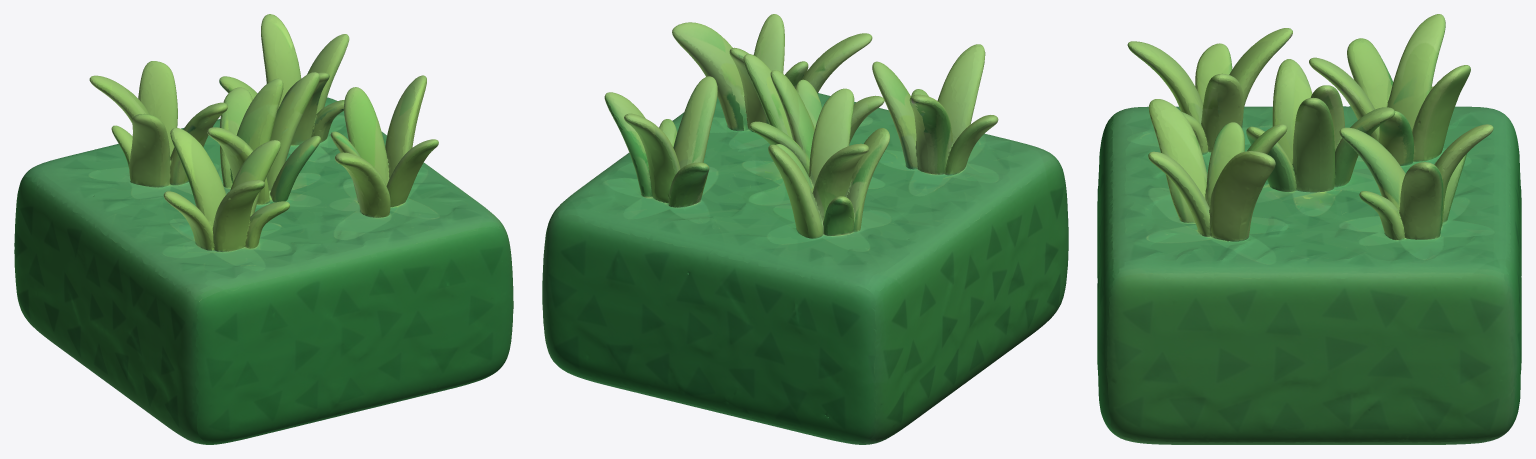
Rendered from ter_grass_tile_01.glb.
The picture shows the model from 3 angles, left to right: view 1: azimuth 30°, elevation 25°; view 2: azimuth 150°, elevation 25°; view 3: azimuth 270°, elevation 25°; orthographic projection. The views are drawn at different scales.
Parts seen in each view (by area): view 1: geometry_0; view 2: geometry_0; view 3: geometry_0.
Part boxes in pixels (bbox=[...]): geometry_0: bbox=[14, 14, 513, 444]; geometry_0: bbox=[542, 14, 1068, 444]; geometry_0: bbox=[1097, 14, 1521, 444].
Size of the model in its own units: 0.12 by 0.0936 by 0.12.
Materials: 1 (1 with a texture image).
